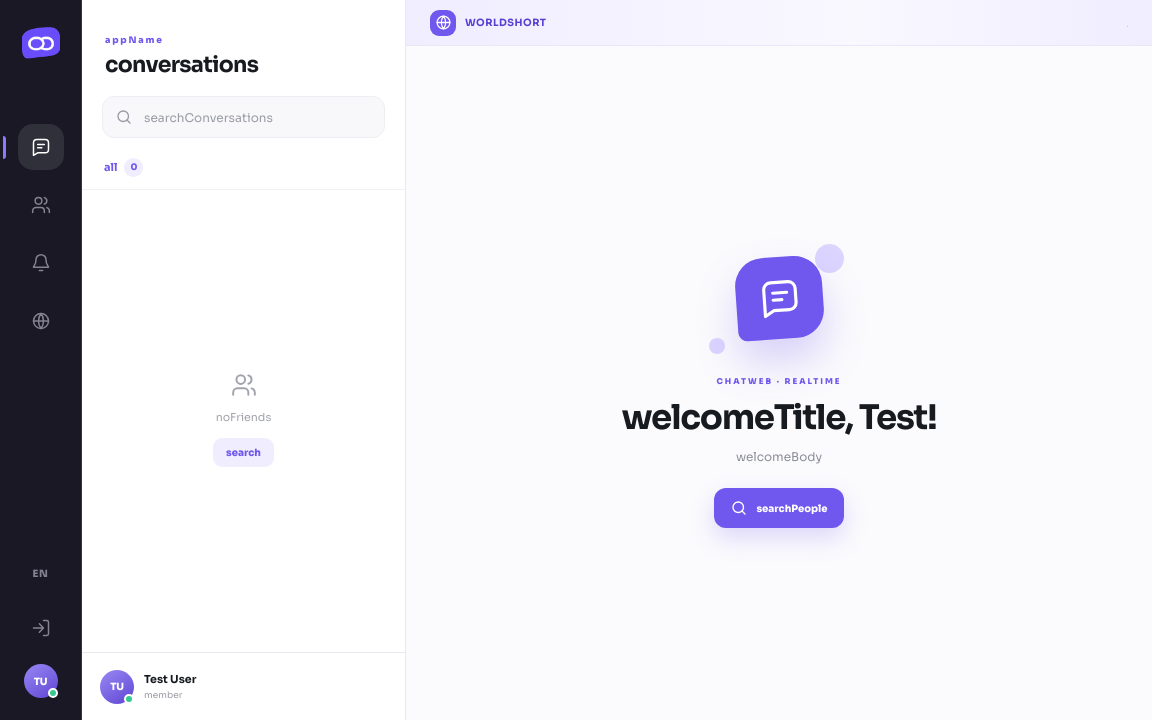
Test: ChatPage Notification Click Navigation Integration › handles realtime notifications received via WebSocket with type-aware navigation
Click the button titled "notifications": (40, 263) [18,240,64,286]
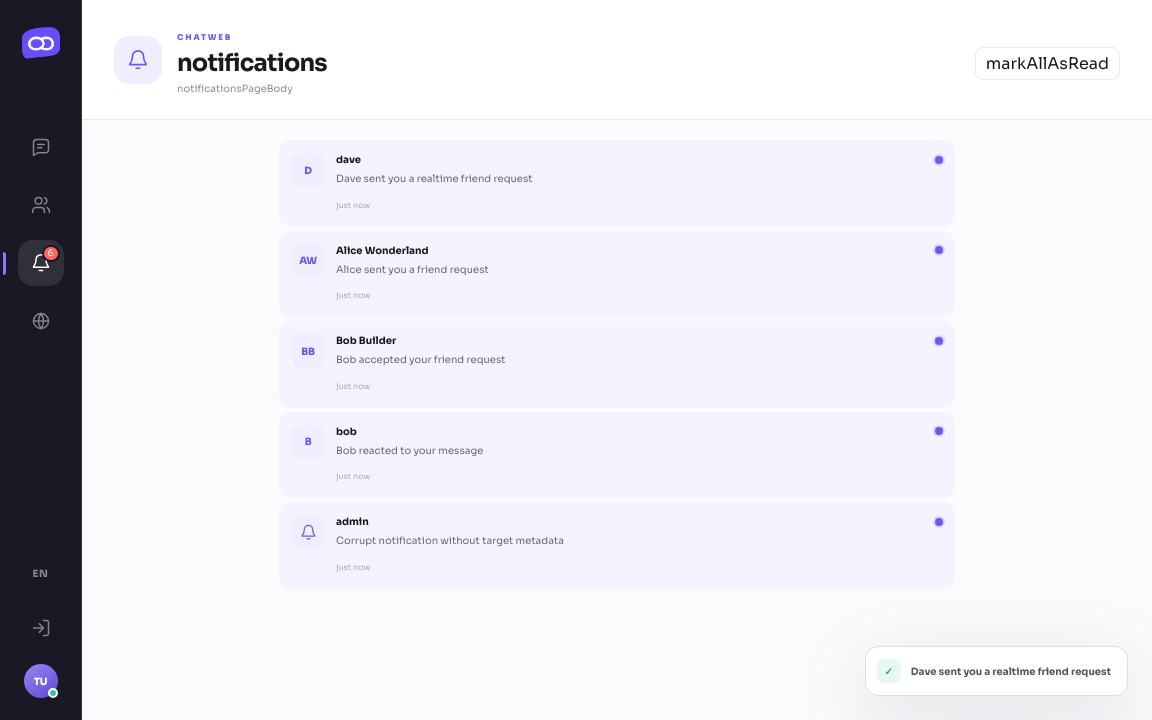
Now the element "notifications" is shown
Click the text "Dave sent you a realtime friend request": (434, 178) [336,172,533,185]
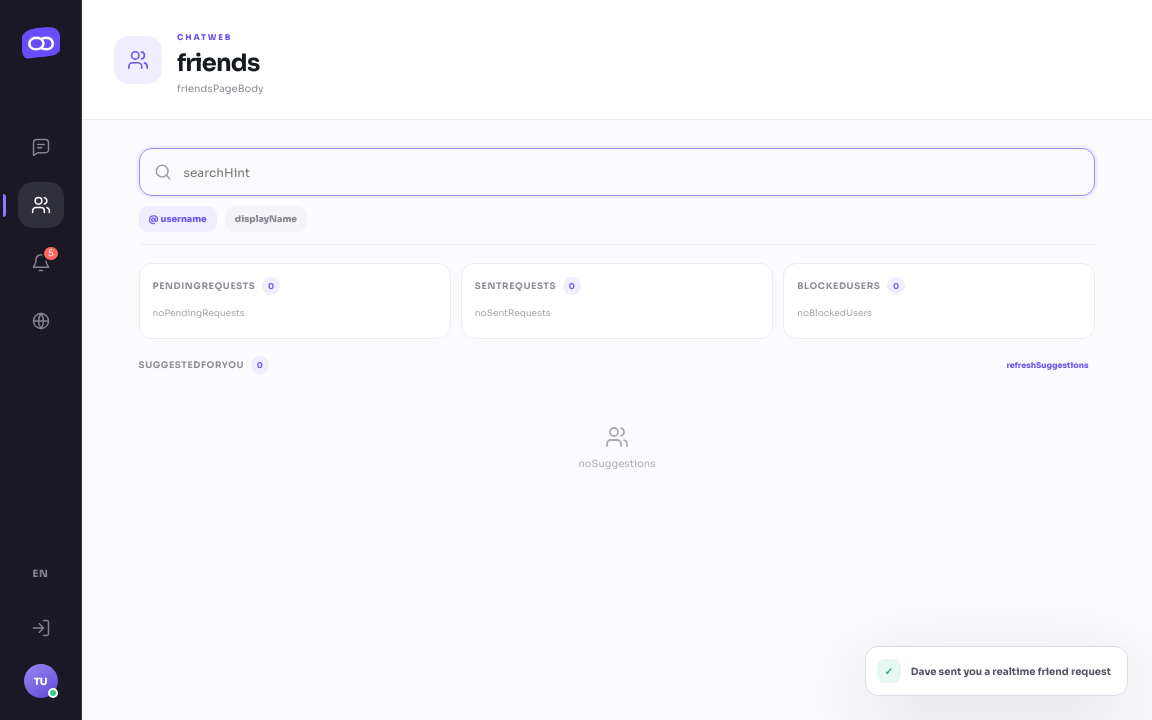
Now the element "friends" is shown
